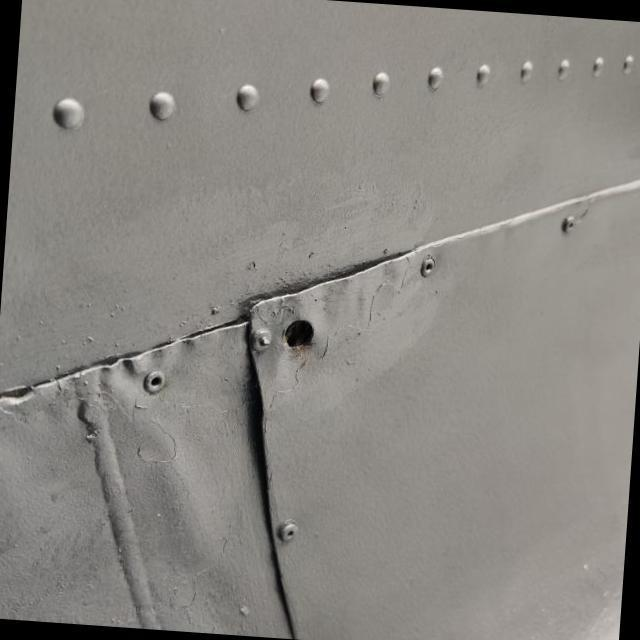Missing Fastener: (282, 319, 312, 346)
dent: (247, 246, 426, 316)
